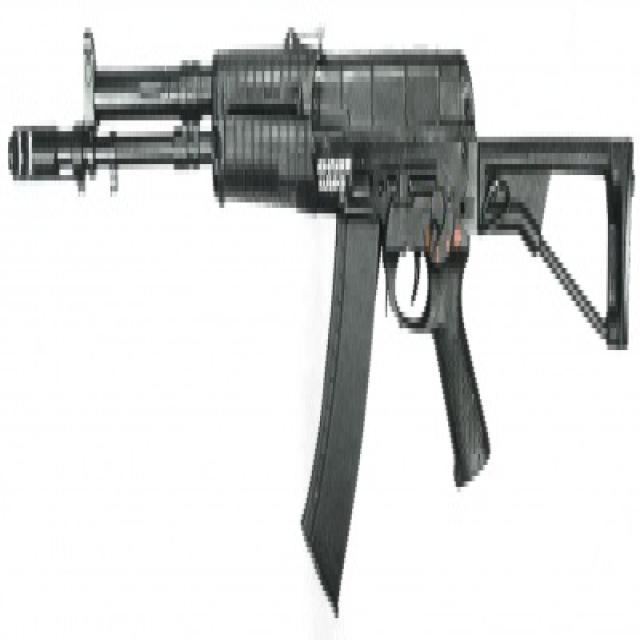rifle: (7, 18, 640, 639)
